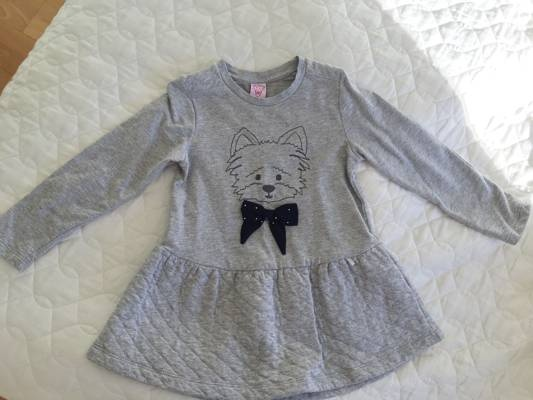Dress: (12, 69, 515, 391)
